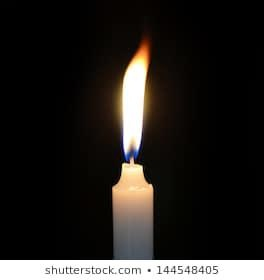fire: (120, 36, 149, 164)
